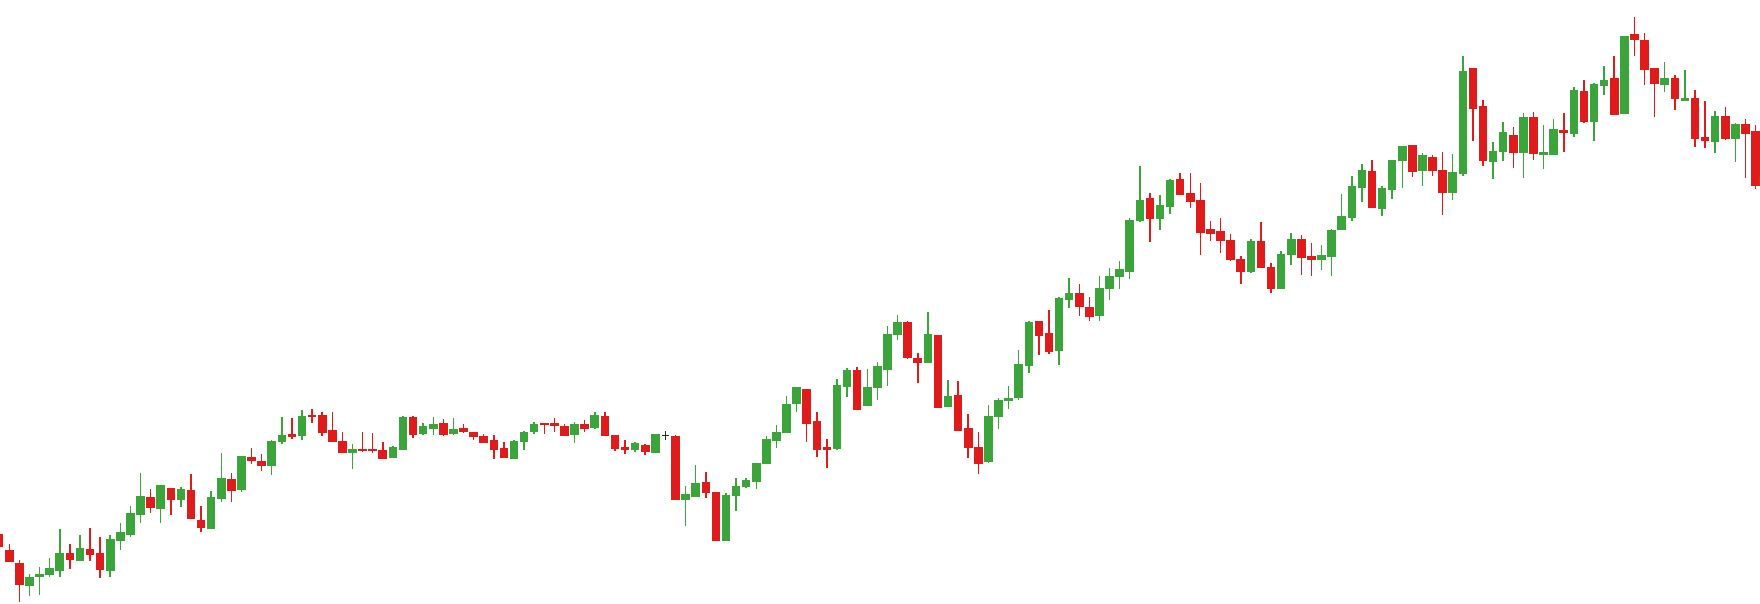buy: (1388, 156, 1459, 218)
